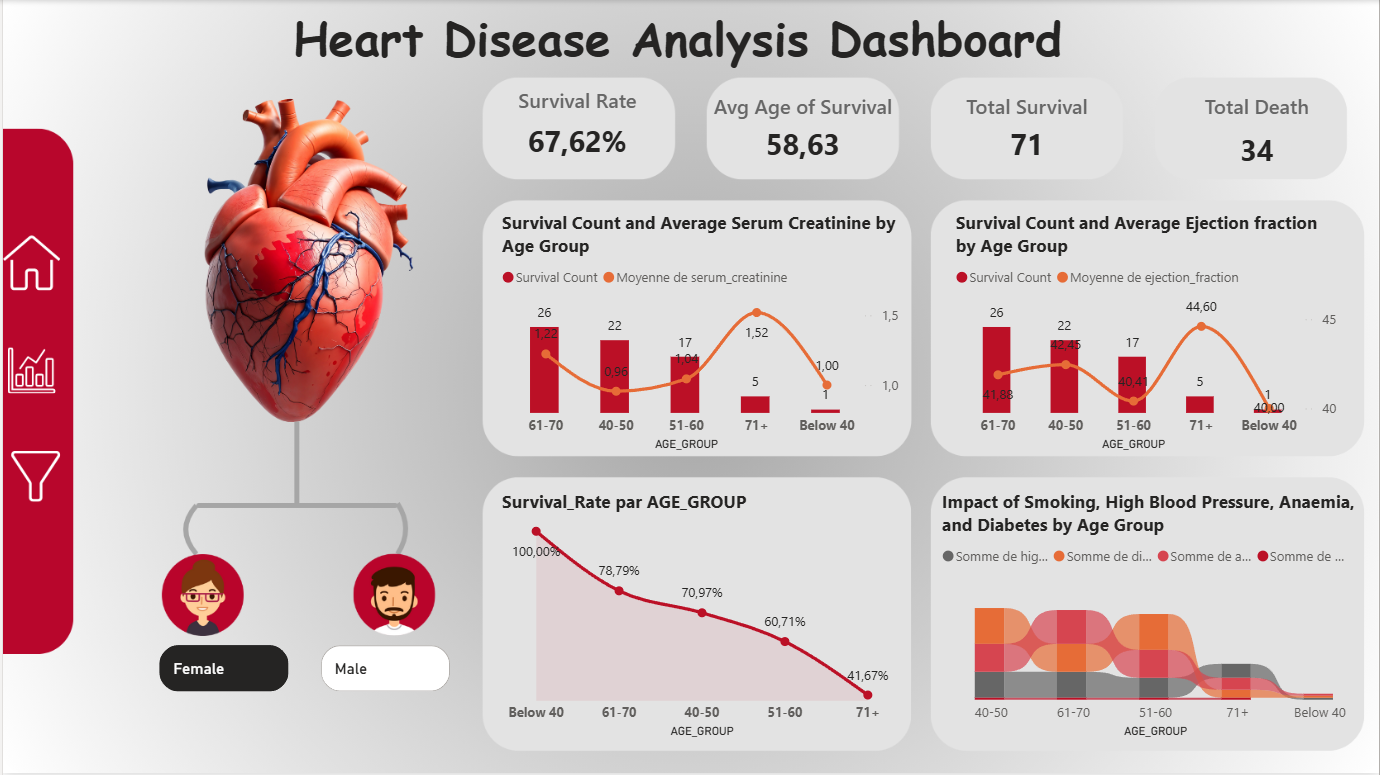

The page's visual inventory and layout, read from the dashboard file:
{"tool":"powerbi","page":{"name":"Page 1","canvas":[1280,720],"ordinal":0},"visuals":[{"type":"textbox","box":[265.1,0,748.8,80.2],"z":0},{"type":"card","title":"Survival Rate","fields":{"Values":["heart_Disease_clinical_records_.Survival_Rate"]},"box":[458.8,80,150,80],"z":1000},{"type":"card","title":"Avg Age of Survival","fields":{"Values":["heart_Disease_clinical_records_.Average_Age_Survival"]},"box":[652.5,86.2,183.8,73.8],"z":2000},{"type":"card","title":"Total Survival","fields":{"Values":["heart_Disease_clinical_records_.Total_Surviour"]},"box":[857.5,86.2,191.2,73.8],"z":3000},{"type":"card","title":"Total Death","fields":{"Values":["heart_Disease_clinical_records_.Total_Death"]},"box":[1065,86.2,202.5,85],"z":4000},{"type":"lineClusteredColumnComboChart","title":"Survival Count and Average Serum Creatinine by Age Group","fields":{"Category":["heart_Disease_clinical_records_.AGE_GROUP"],"Y":["CountNonNull(heart_Disease_clinical_records_.DEATH_EVENT)"],"Y2":["Avg(heart_Disease_clinical_records_.serum_creatinine)"]},"box":[458.8,195,381.2,228.8],"z":5000},{"type":"lineClusteredColumnComboChart","title":"Survival Count and Average Ejection fraction by Age Group","fields":{"Category":["heart_Disease_clinical_records_.AGE_GROUP"],"Y":["CountNonNull(heart_Disease_clinical_records_.DEATH_EVENT)"],"Y2":["Avg(heart_Disease_clinical_records_.ejection_fraction)"]},"box":[881.2,195,365,228.8],"z":6000},{"type":"lineChart","fields":{"Category":["heart_Disease_clinical_records_.AGE_GROUP"],"Y":["heart_Disease_clinical_records_.Survival_Rate"]},"box":[458.8,455,381.2,236.2],"z":7000},{"type":"ribbonChart","title":"Impact of Smoking, High Blood Pressure, Anaemia, and Diabetes by Age Group","fields":{"Category":["heart_Disease_clinical_records_.AGE_GROUP"],"Y":["Sum(heart_Disease_clinical_records_.high_blood_pressure)","Sum(heart_Disease_clinical_records_.diabetes)","Sum(heart_Disease_clinical_records_.anaemia)","Sum(heart_Disease_clinical_records_.smoking)"]},"box":[868.8,455,407.5,236.2],"z":8000},{"type":"advancedSlicerVisual","fields":{"Values":["heart_Disease_clinical_records_.Gender"]},"box":[141.2,595,281.2,53.8],"z":9000}]}

Visuals, with their boxes in screenshot pixels (x1, y1, x2, y2), scaled from the page's 1280x720 canvas onto the 1380x775 screenshot:
textbox: box=[286, 0, 1093, 86]
"Survival Rate" card: box=[495, 86, 656, 172]
"Avg Age of Survival" card: box=[703, 93, 902, 172]
"Total Survival" card: box=[924, 93, 1131, 172]
"Total Death" card: box=[1148, 93, 1367, 184]
"Survival Count and Average Serum Creatinine by Age Group" lineClusteredColumnComboChart: box=[495, 210, 906, 456]
"Survival Count and Average Ejection fraction by Age Group" lineClusteredColumnComboChart: box=[950, 210, 1344, 456]
lineChart - heart_Disease_clinical_records_.AGE_GROUP x heart_Disease_clinical_records_.Survival_Rate: box=[495, 490, 906, 744]
"Impact of Smoking, High Blood Pressure, Anaemia, and Diabetes by Age Group" ribbonChart: box=[937, 490, 1376, 744]
advancedSlicerVisual - heart_Disease_clinical_records_.Gender: box=[152, 640, 455, 698]
